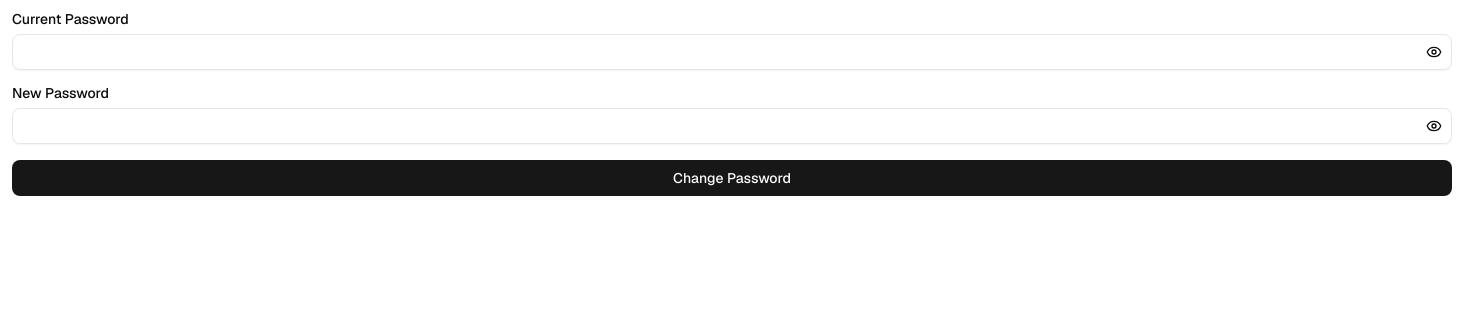
Test case: ChangePasswordForm › shows incorrect password error on invalid_credentials
In the password field labelled "Current Password": (732, 52) [12,34,1452,70], type "wrongPass1!"
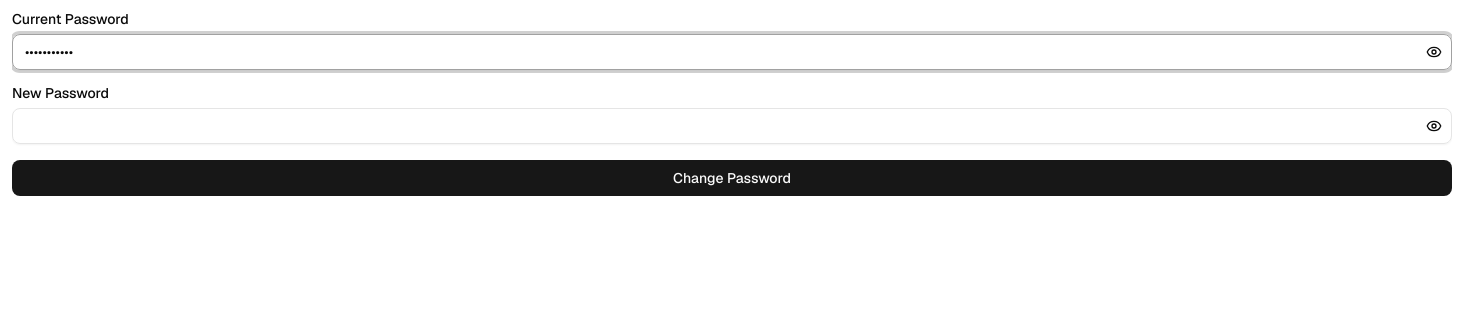
In the password field labelled "New Password": (732, 126) [12,108,1452,144], type "newSecurePass1!"
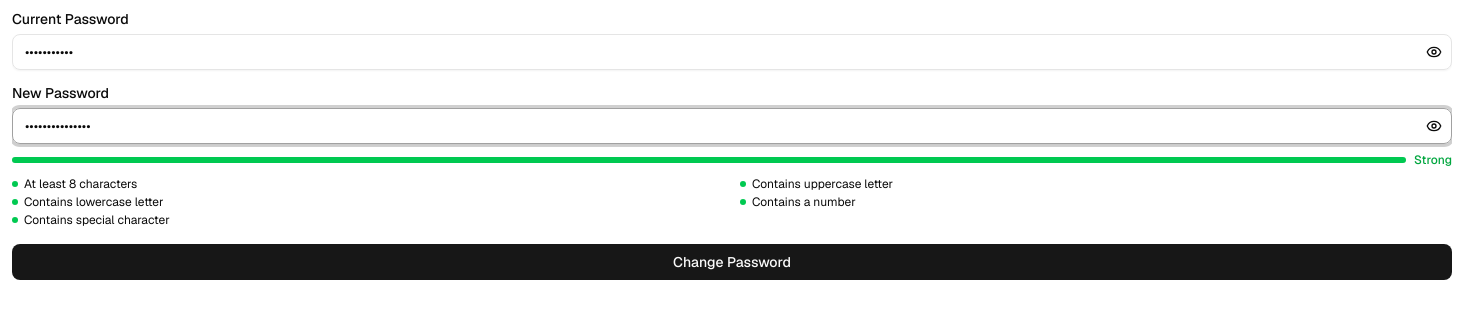
Click the button "Change Password": (732, 262) [12,244,1452,280]
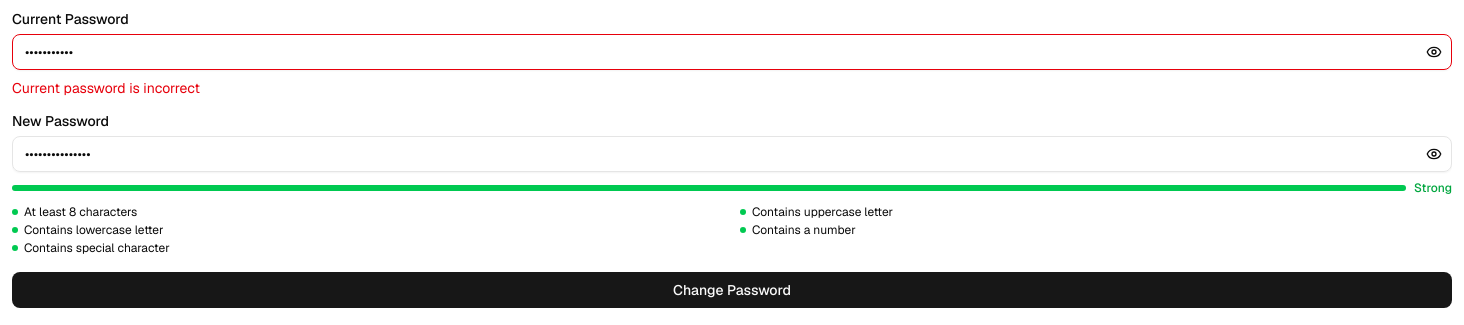
expect the text "Current password is incorrect" is shown: met, box [12,79,200,97]
